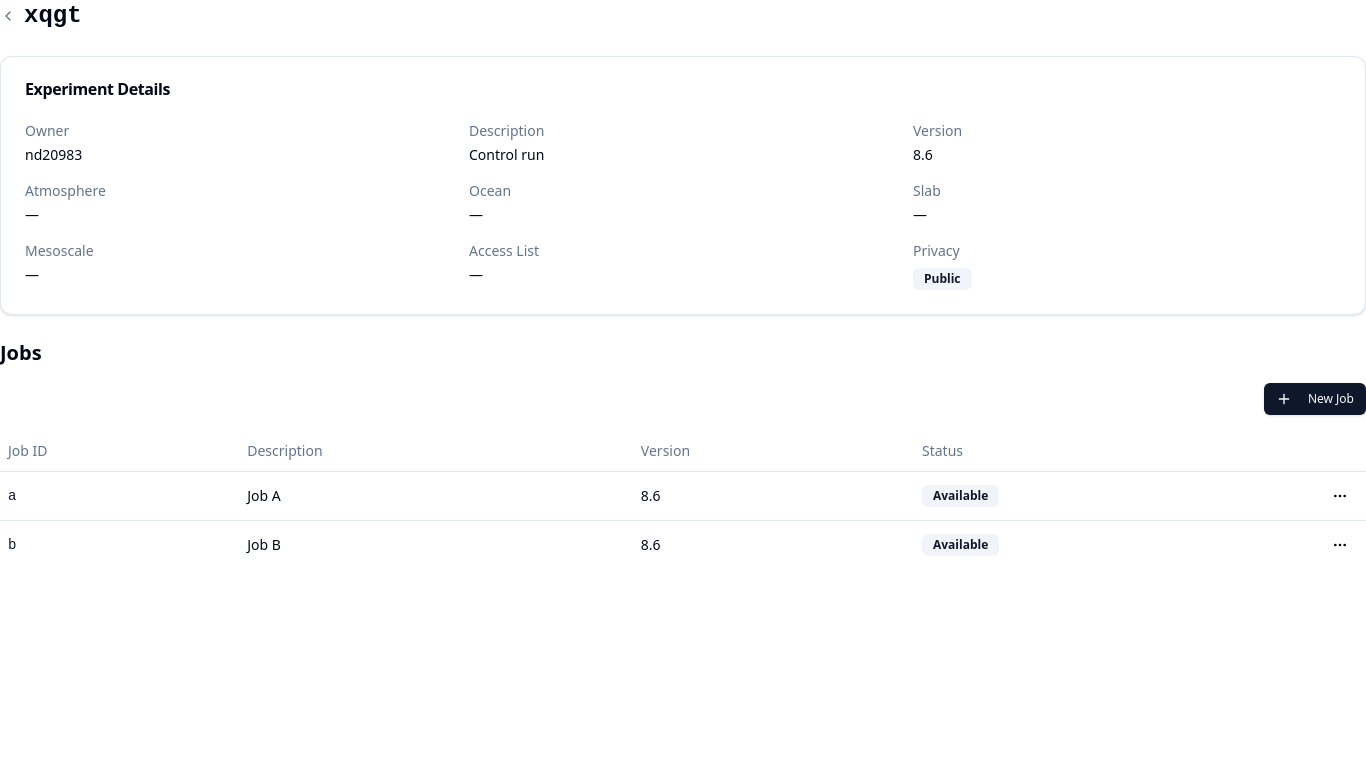
Test case: Job CRUD flow › creates a new job via dialog
Click the button "New Job" at [1315, 399], box [1264,383,1365,415]
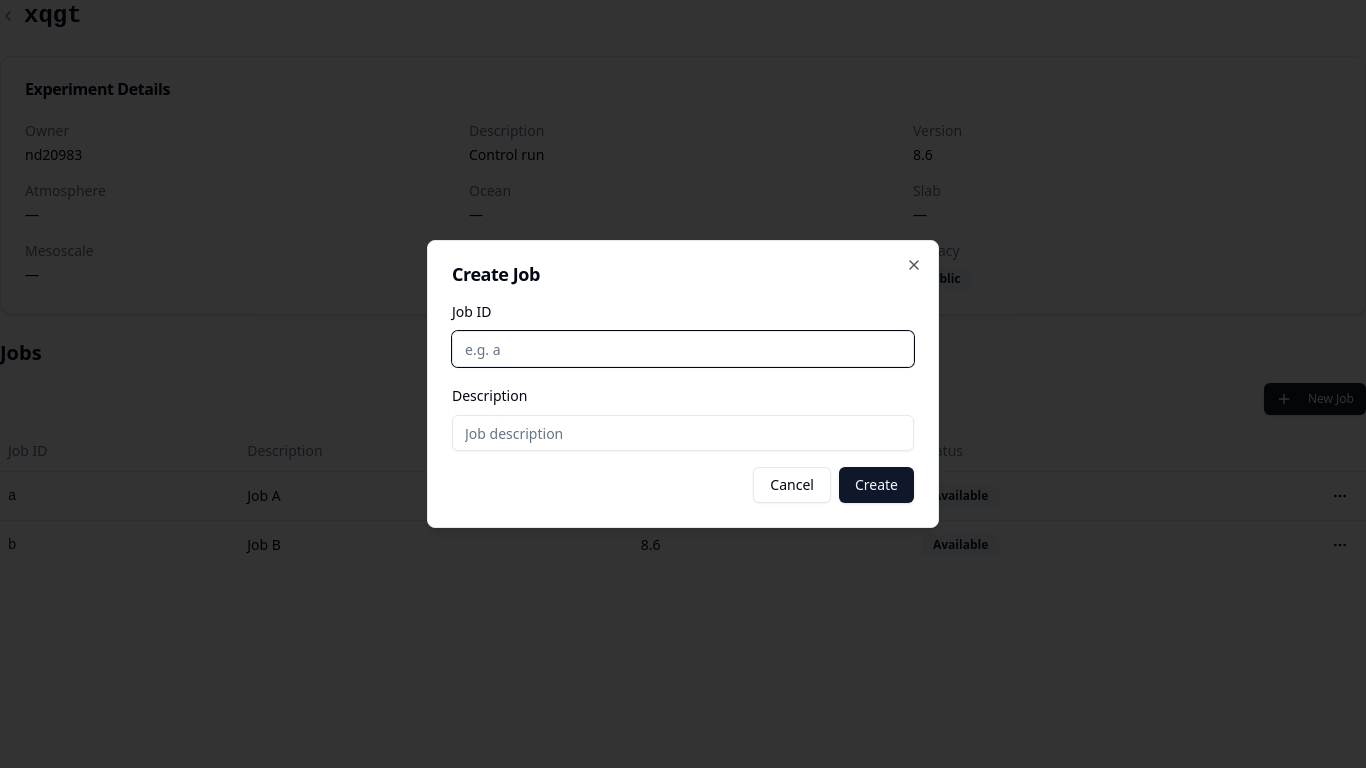
Expected: the heading "Create Job" is shown, [452,262,540,286]
Type "c" into the field labelled "Job ID" at [683, 349], box [452,331,914,367]
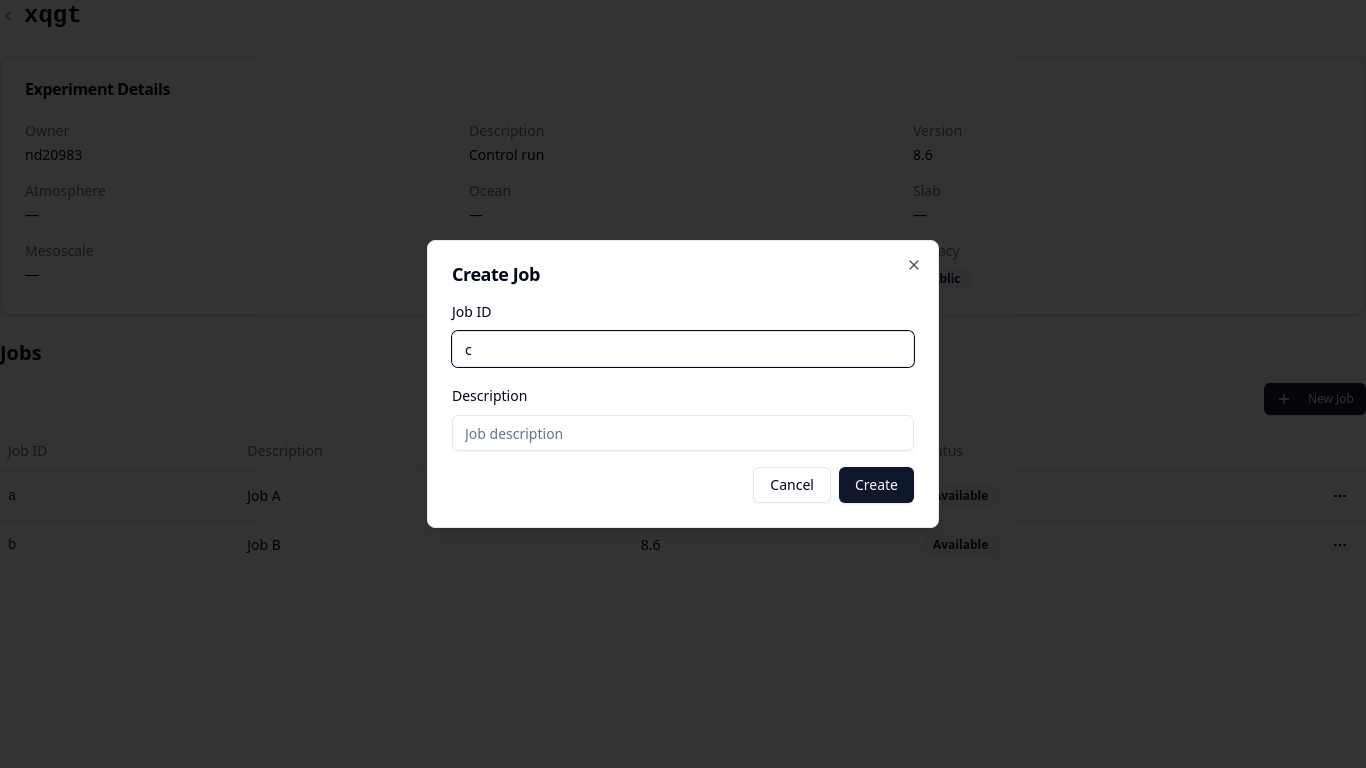
Type "New job" into the field labelled "Description" at [683, 433], box [452,415,914,451]
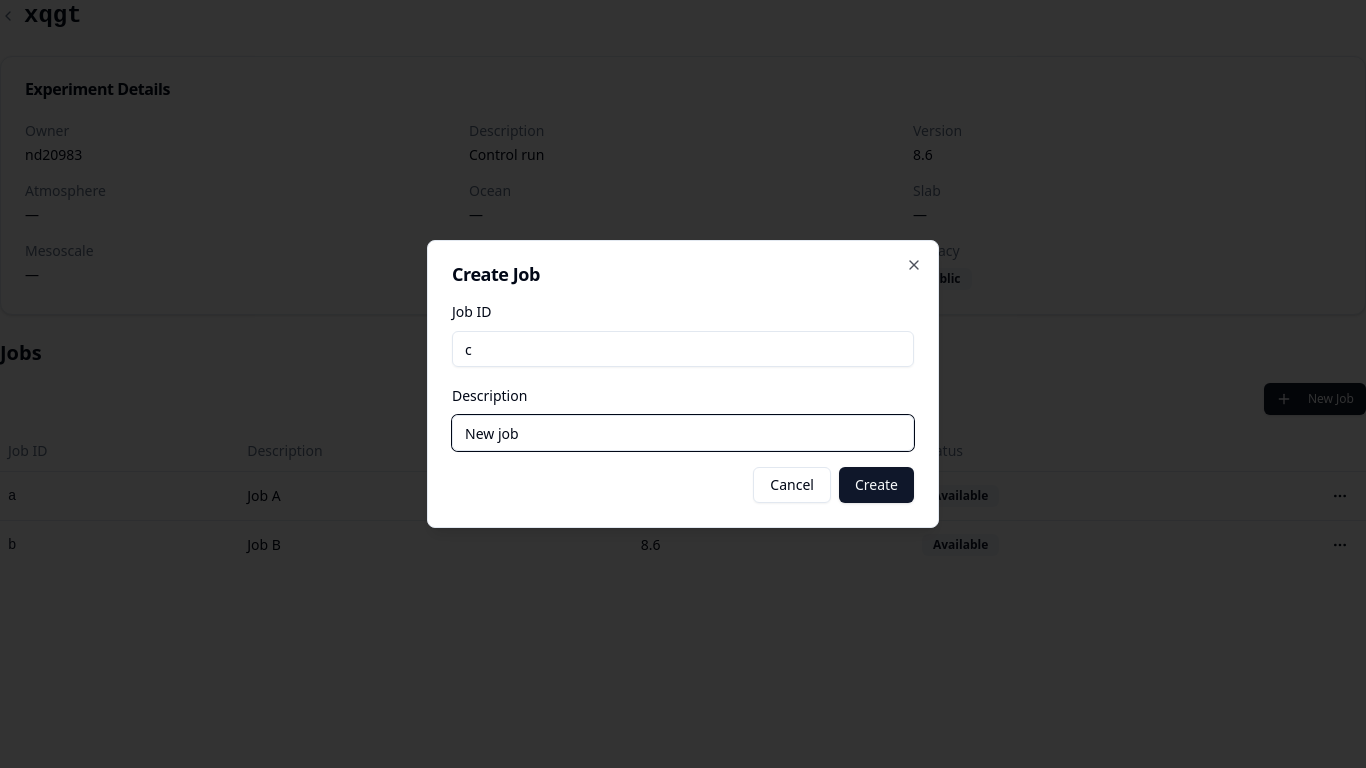
Click the button "Create" at [876, 485], box [839,467,914,503]
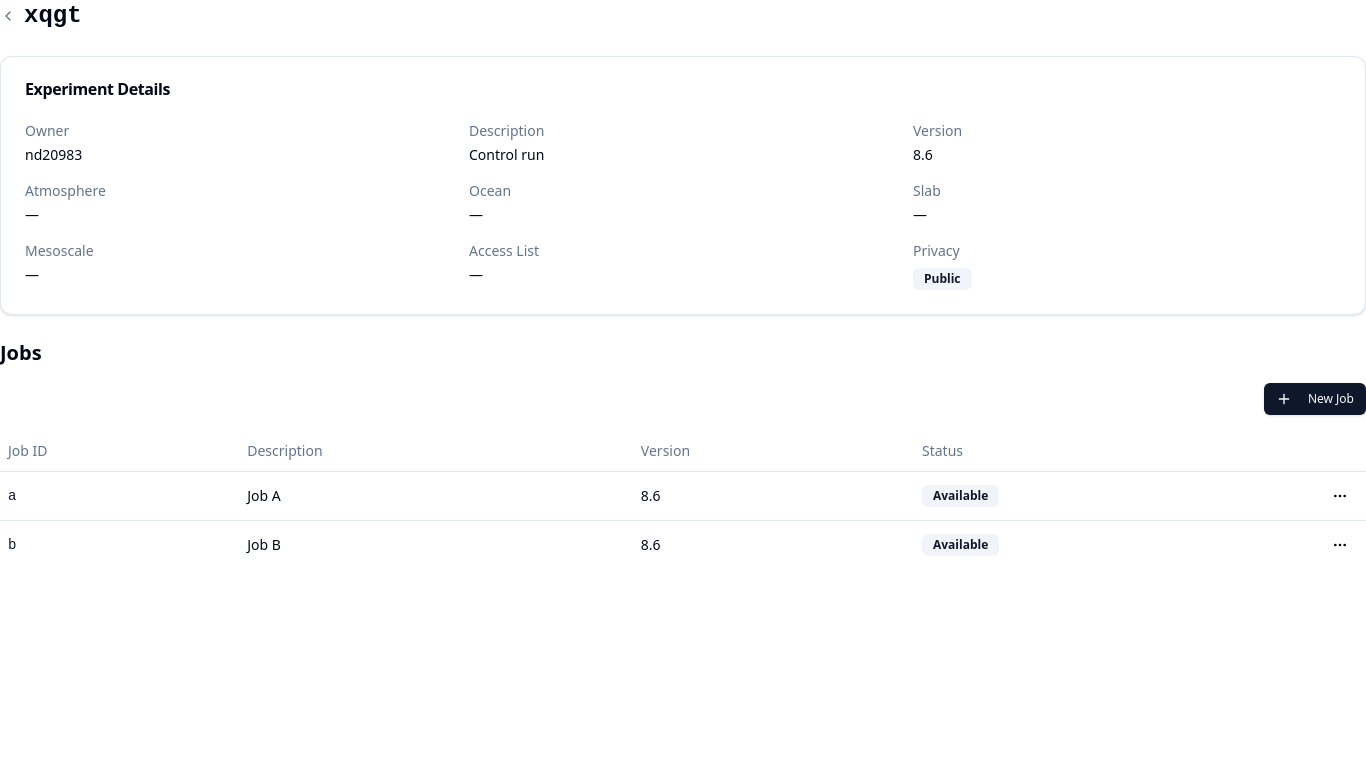
Expected: the heading "Create Job" is gone
